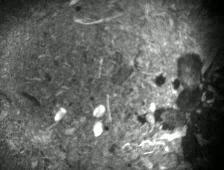corn: (51, 106, 70, 123), (92, 119, 106, 138), (91, 103, 107, 119), (67, 1, 82, 7)
